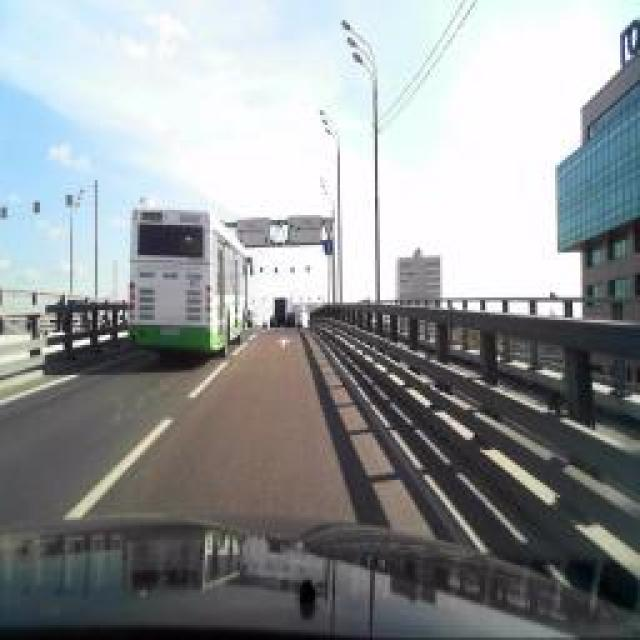sign: (324, 239, 334, 256)
